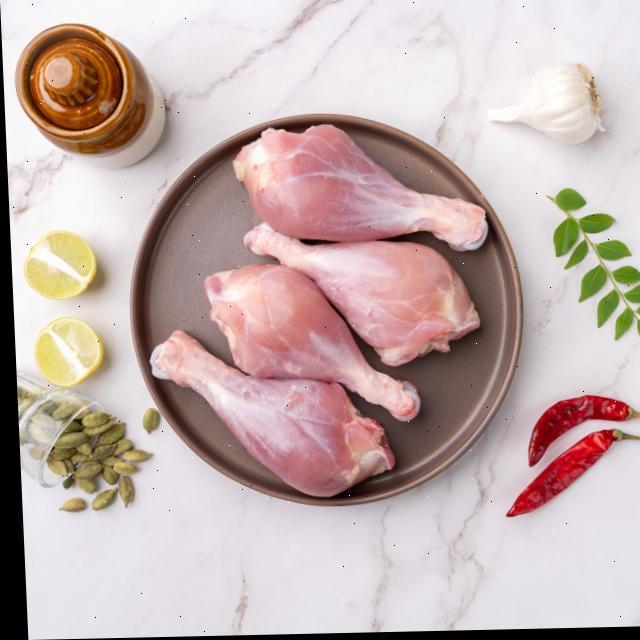leg: (138, 318, 386, 504), (188, 254, 418, 429), (229, 214, 481, 364), (232, 119, 485, 262)
